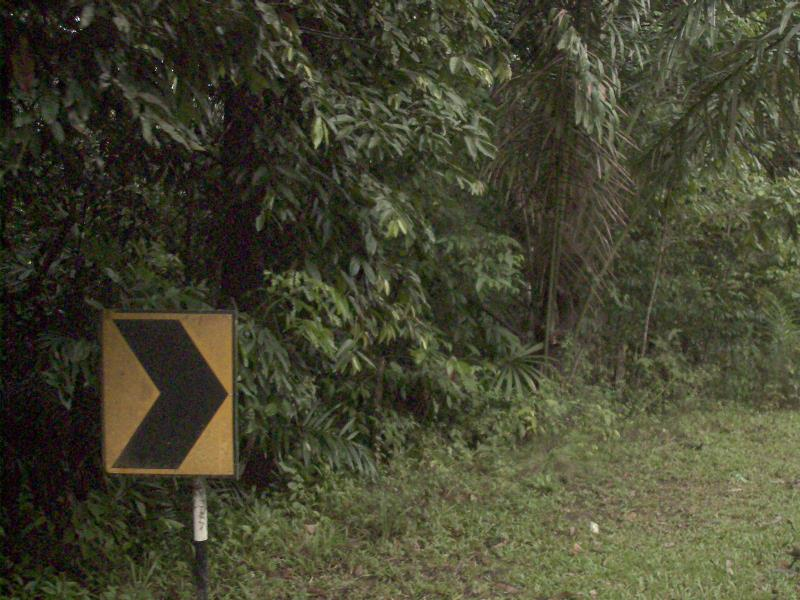traffic_sign: (81, 290, 247, 496)
